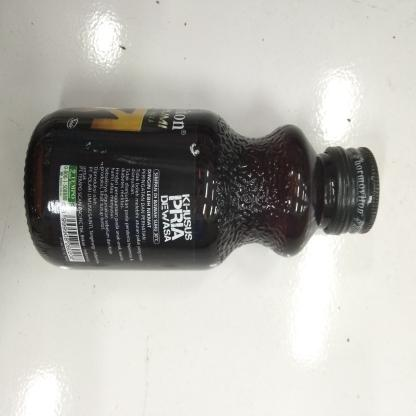glass: (20, 98, 392, 278)
